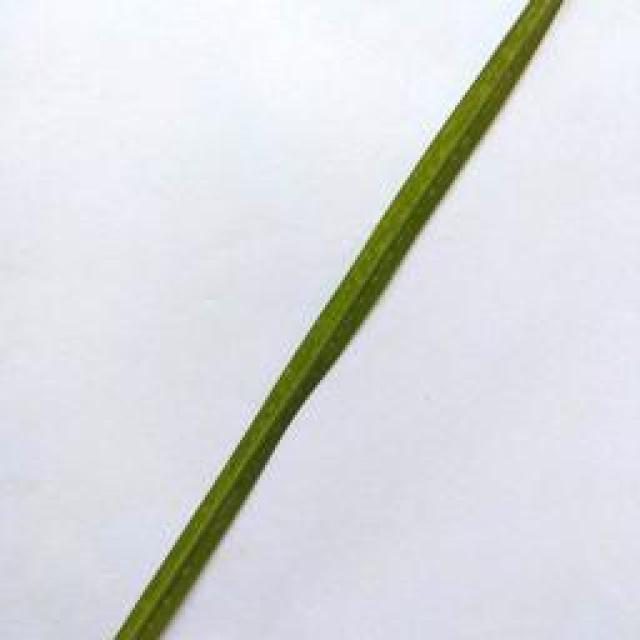Healthy-Plant: (110, 0, 564, 640)
